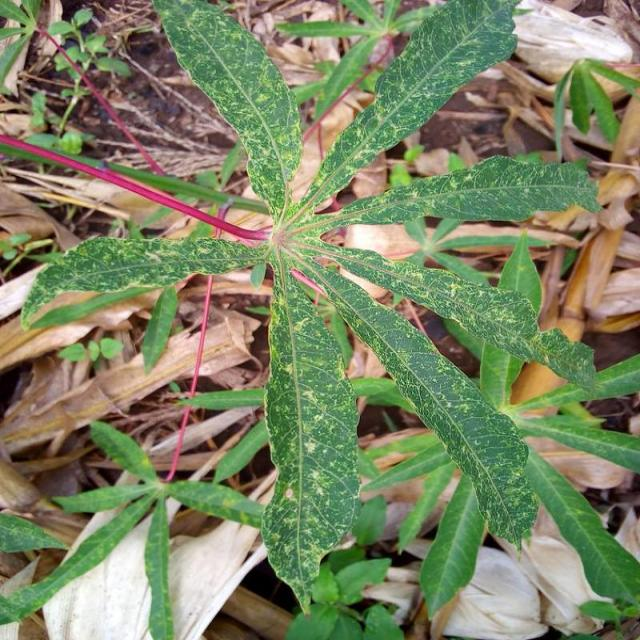cassava leaf: (15, 0, 608, 620), (261, 255, 363, 614), (153, 0, 305, 223)
